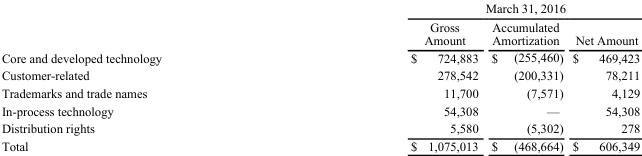table: (0, 1, 639, 152)
table column: (0, 1, 285, 152), (285, 1, 484, 152), (484, 1, 567, 152), (567, 1, 639, 152)
table column header: (0, 1, 639, 48)
table row: (0, 17, 639, 48), (0, 48, 639, 66), (0, 83, 639, 101), (0, 101, 639, 119), (0, 66, 639, 83), (0, 119, 639, 136), (0, 1, 639, 17), (0, 136, 639, 152)
table spanning cell: (285, 1, 639, 17)
